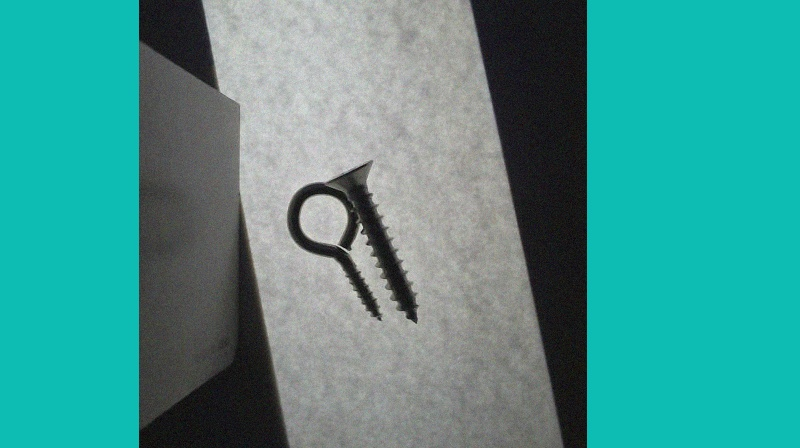O001: (285, 179, 383, 326)
S001: (329, 158, 420, 330)
